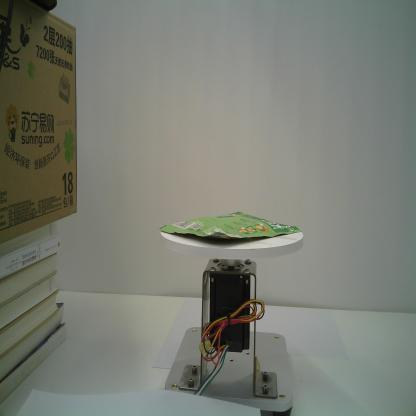Seasoner: (158, 210, 303, 239)
